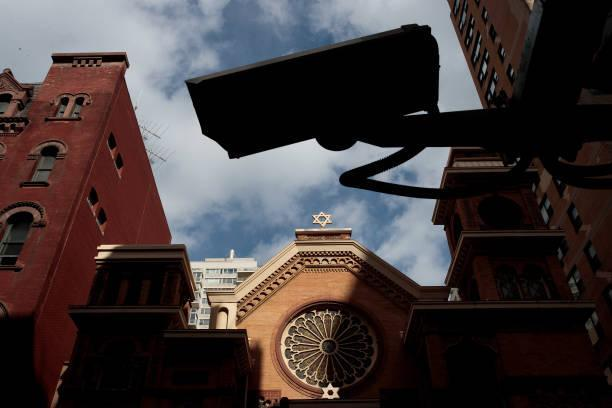camera: (157, 9, 466, 192)
